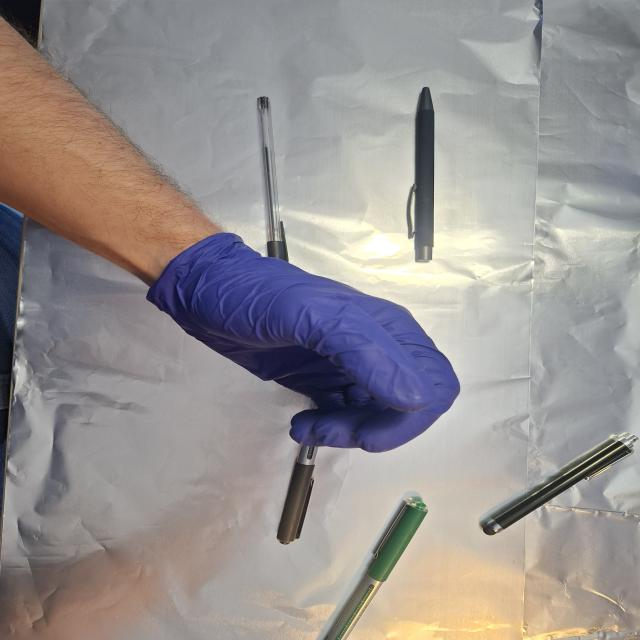glove_on: (144, 230, 466, 457)
